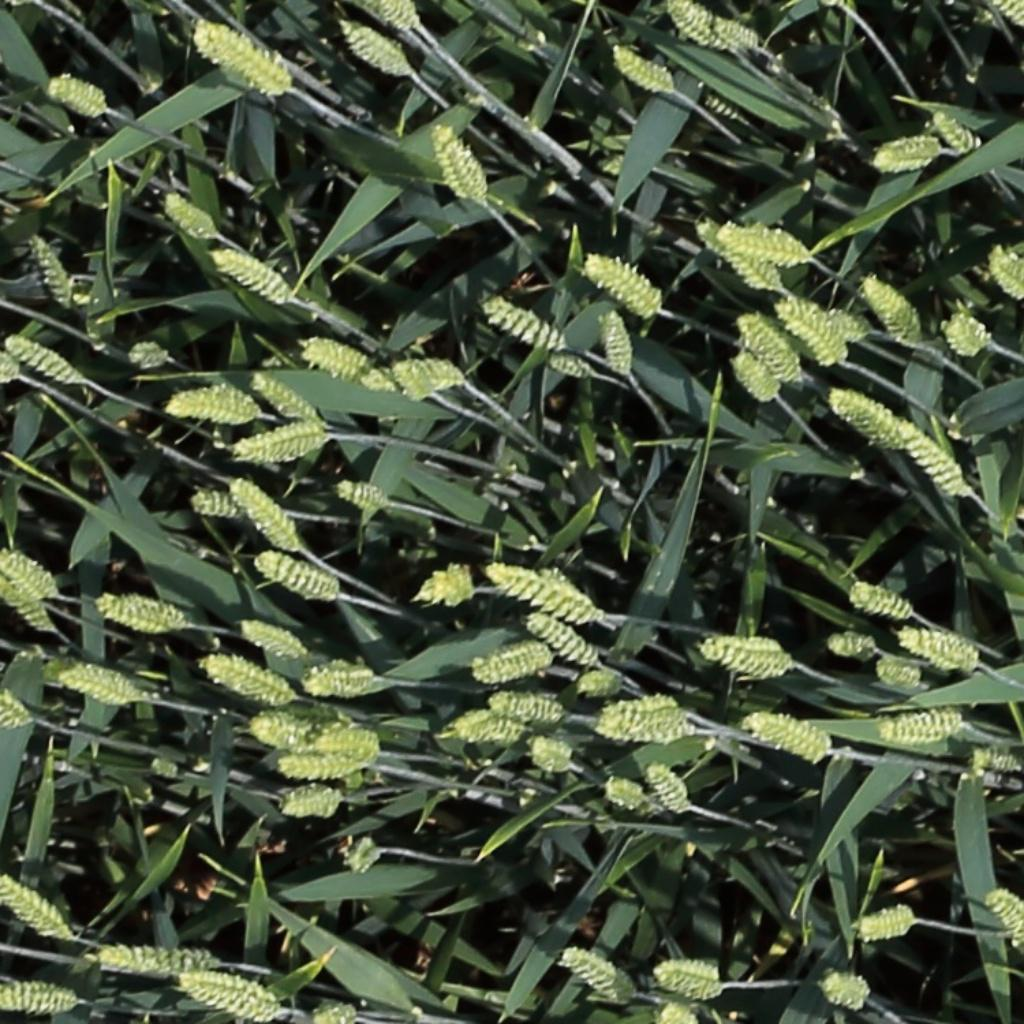0-0: (488, 560, 602, 622), (195, 23, 290, 94), (895, 417, 973, 499), (697, 218, 783, 292), (230, 476, 305, 557), (431, 116, 490, 206), (861, 270, 929, 348), (23, 225, 81, 314), (181, 968, 284, 1018), (738, 308, 805, 382), (0, 875, 72, 943), (96, 935, 222, 973), (585, 252, 662, 314), (869, 705, 975, 749), (235, 417, 334, 464), (832, 389, 912, 447), (778, 296, 847, 363), (483, 296, 567, 350), (595, 696, 694, 741), (212, 247, 293, 300), (338, 17, 412, 75), (302, 723, 393, 770), (202, 658, 294, 704), (699, 630, 794, 674), (255, 551, 342, 599), (527, 613, 602, 667), (559, 948, 634, 1000), (4, 334, 83, 383), (745, 716, 831, 760), (165, 384, 262, 423), (0, 570, 57, 634), (251, 370, 319, 421), (899, 629, 980, 669), (655, 951, 728, 995), (644, 760, 696, 820), (863, 133, 943, 172), (669, 1, 731, 51), (94, 596, 185, 630), (280, 748, 365, 784), (690, 4, 756, 50), (614, 45, 678, 92), (297, 656, 376, 694), (8, 549, 68, 598), (724, 226, 815, 258), (363, 367, 441, 404), (57, 670, 141, 704), (240, 619, 309, 660), (733, 348, 782, 405), (602, 303, 637, 382), (162, 189, 218, 238), (984, 887, 1024, 954), (301, 339, 375, 375), (929, 103, 981, 154), (486, 687, 566, 720), (0, 980, 80, 1012), (853, 582, 918, 619), (810, 306, 873, 344), (473, 651, 552, 681), (393, 357, 467, 389), (985, 241, 1024, 301), (410, 570, 475, 605), (46, 77, 107, 114), (527, 734, 579, 777), (351, 0, 421, 30), (279, 784, 343, 816), (709, 10, 761, 49), (826, 621, 880, 656), (943, 315, 988, 356), (344, 832, 380, 883), (813, 977, 872, 1007), (857, 910, 918, 939), (604, 773, 647, 813), (334, 481, 393, 510), (577, 664, 628, 697), (453, 723, 525, 742), (189, 494, 248, 517), (969, 750, 1022, 775), (703, 86, 744, 118), (877, 660, 927, 686), (0, 675, 25, 726), (547, 352, 596, 378), (312, 1004, 360, 1024), (0, 344, 23, 378), (659, 1003, 696, 1024), (996, 0, 1022, 28)
